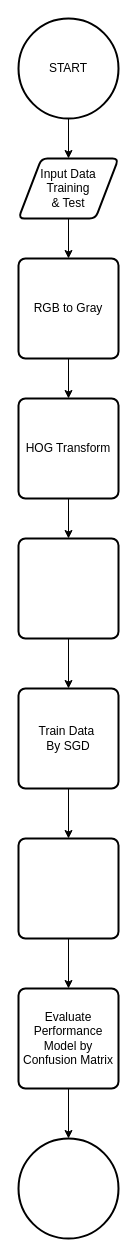
The diagram is 136 pixels wide and 1256 high, and some of its shapes have lost their labels. Here are the shapes that lost their labels. From the top down, the box of each, then its label:
(17, 537, 119, 639): Normalize By Standar Scaler
(17, 837, 119, 939): Test Data with Model SGD
(17, 1137, 119, 1239): END
